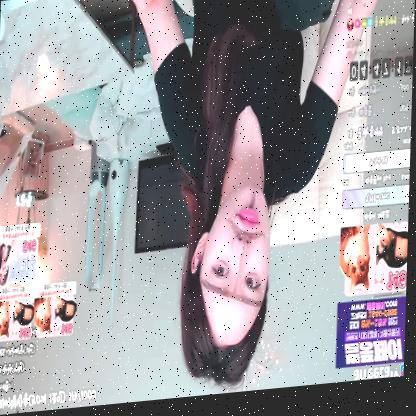donation: (340, 230, 409, 304), (0, 222, 42, 286), (34, 282, 78, 339), (0, 284, 36, 341)
streamer: (106, 0, 391, 407)
